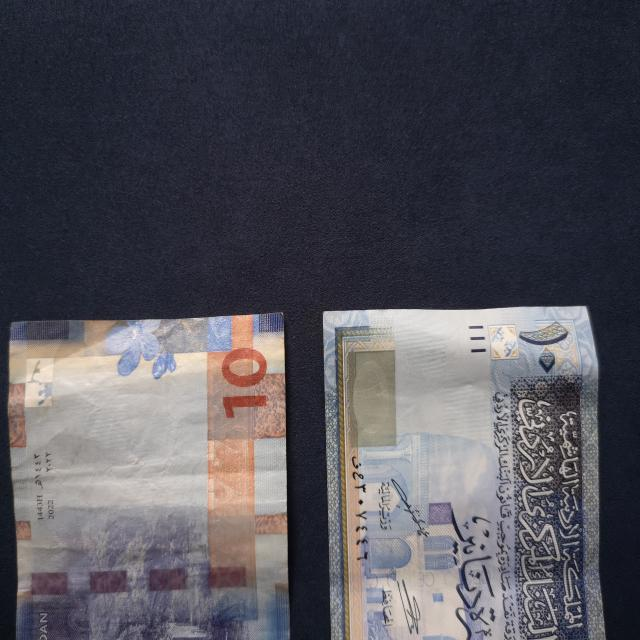10-dinar: (323, 308, 608, 640), (10, 314, 292, 640)
